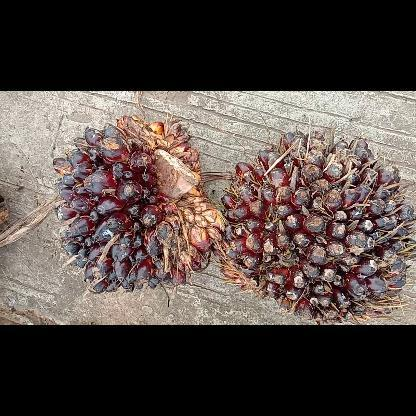TBS mentah: (209, 126, 415, 322), (50, 113, 226, 295)
